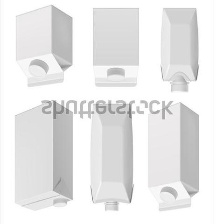carton: (9, 97, 82, 213), (142, 99, 207, 216), (87, 96, 144, 215), (12, 5, 81, 90), (89, 4, 146, 91), (157, 3, 207, 95)
